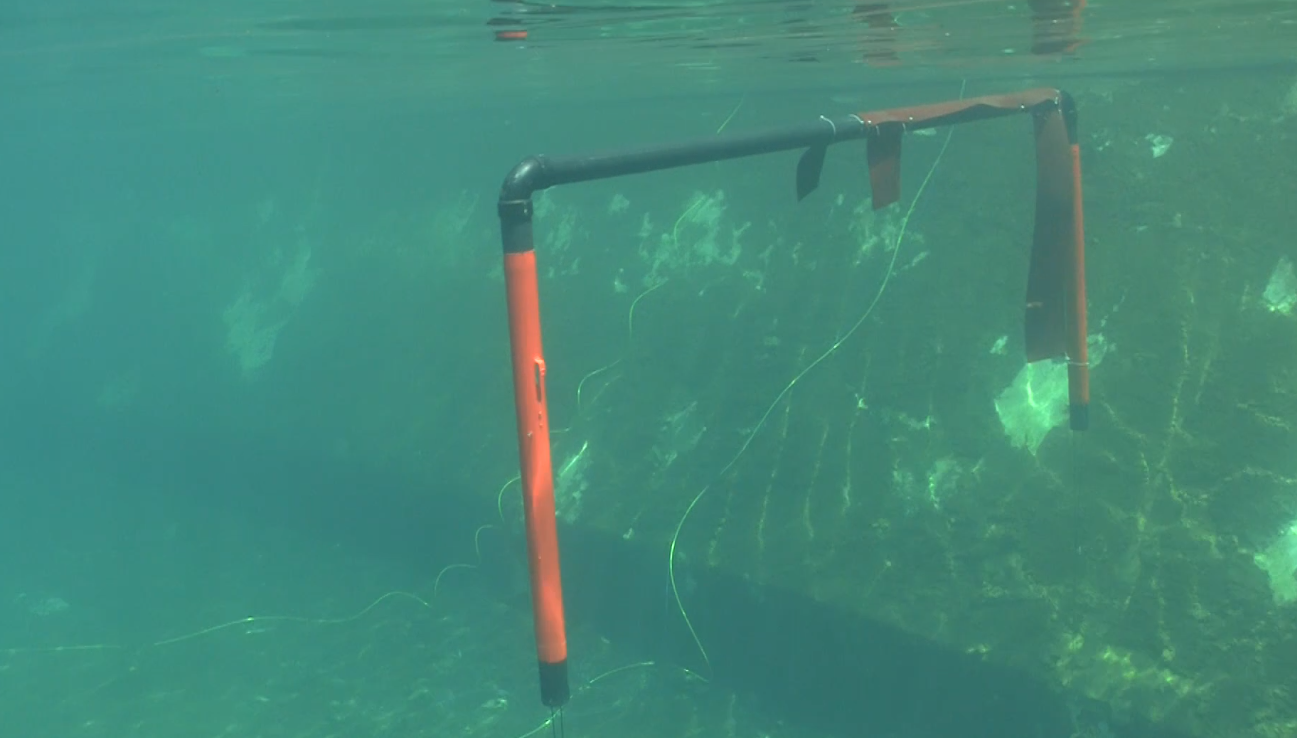gate: (496, 73, 1102, 713)
